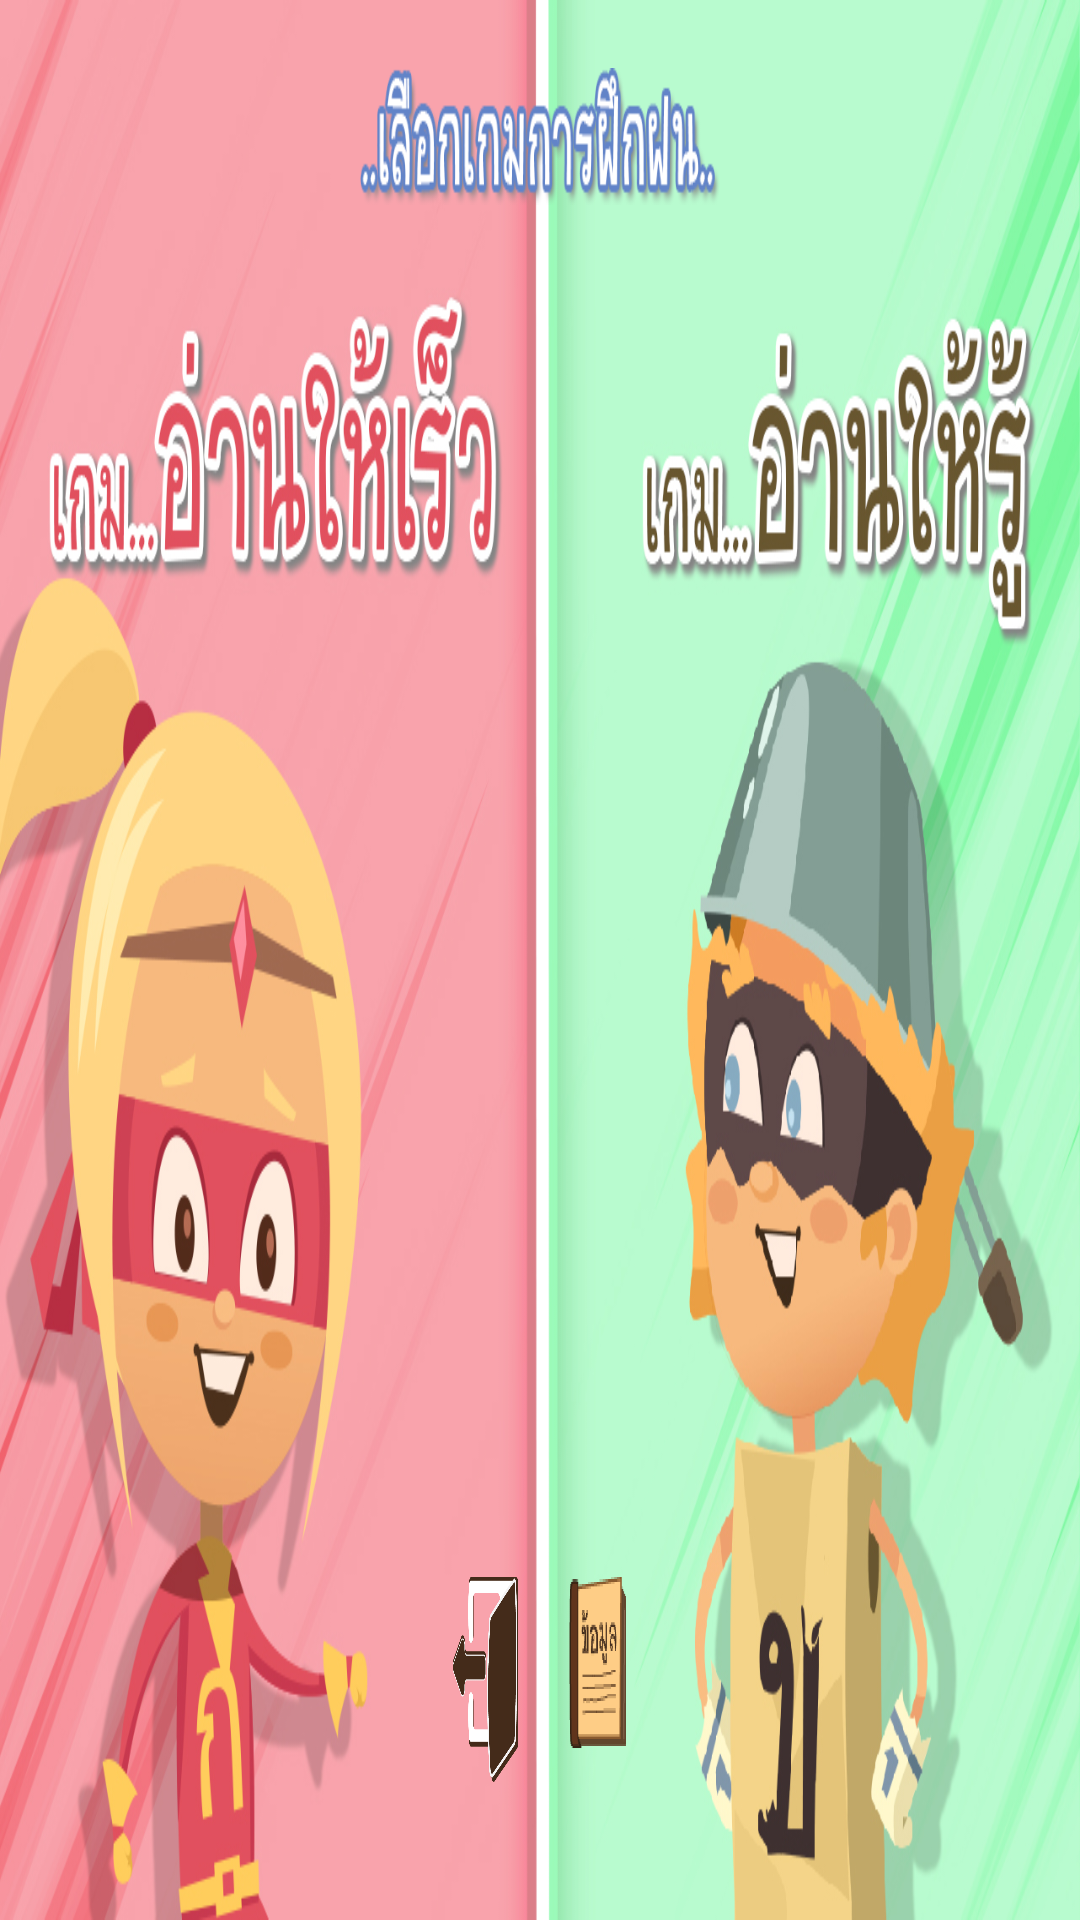

Icons on this 1080x1920 Android screen, each with the point to tap as (x=x, y=y):
exit: (x=485, y=1679)
